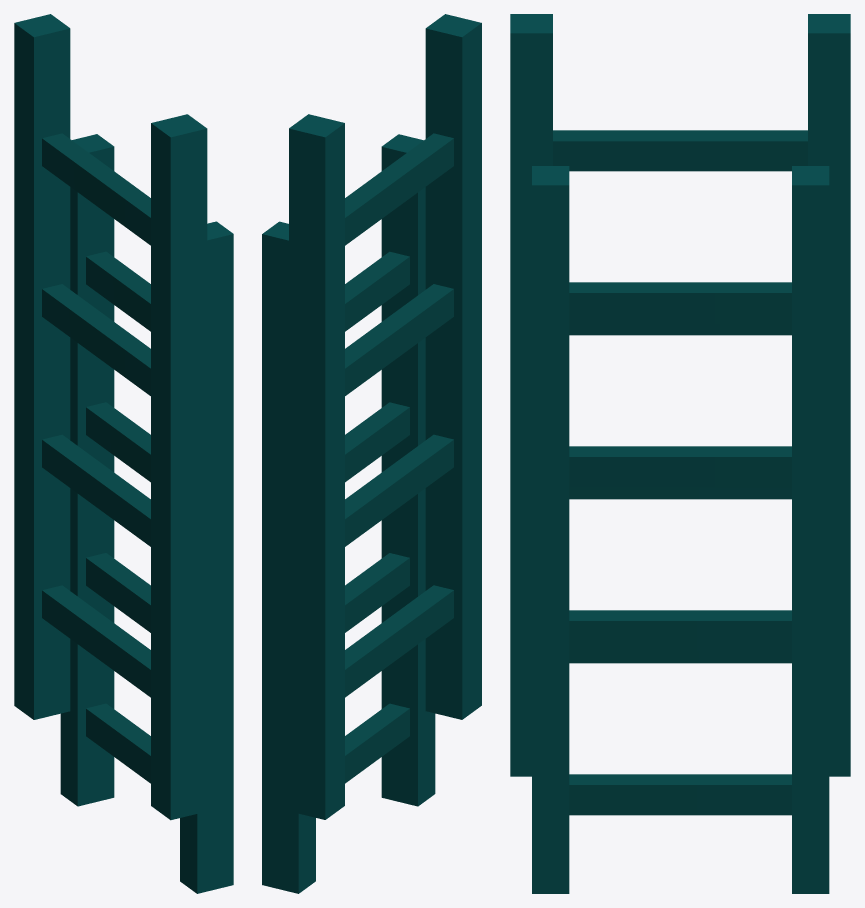
File: FireEscape_C_4.fbx
3 renders of one model, left to right at view 1: azimuth 30°, elevation 25°; view 2: azimuth 150°, elevation 25°; view 3: azimuth 270°, elevation 25°, orthographic. The views are drawn at different scales.
Parts seen in each view (by area): view 1: FireEscape_C_4; view 2: FireEscape_C_4; view 3: FireEscape_C_4.
Boxes of the visible parts, x1=… form: FireEscape_C_4: x1=14, y1=14, x2=233, y2=893; FireEscape_C_4: x1=262, y1=14, x2=481, y2=893; FireEscape_C_4: x1=510, y1=14, x2=850, y2=893.
Bounding box in the file's own units: 18.51 × 187 × 68.63.
